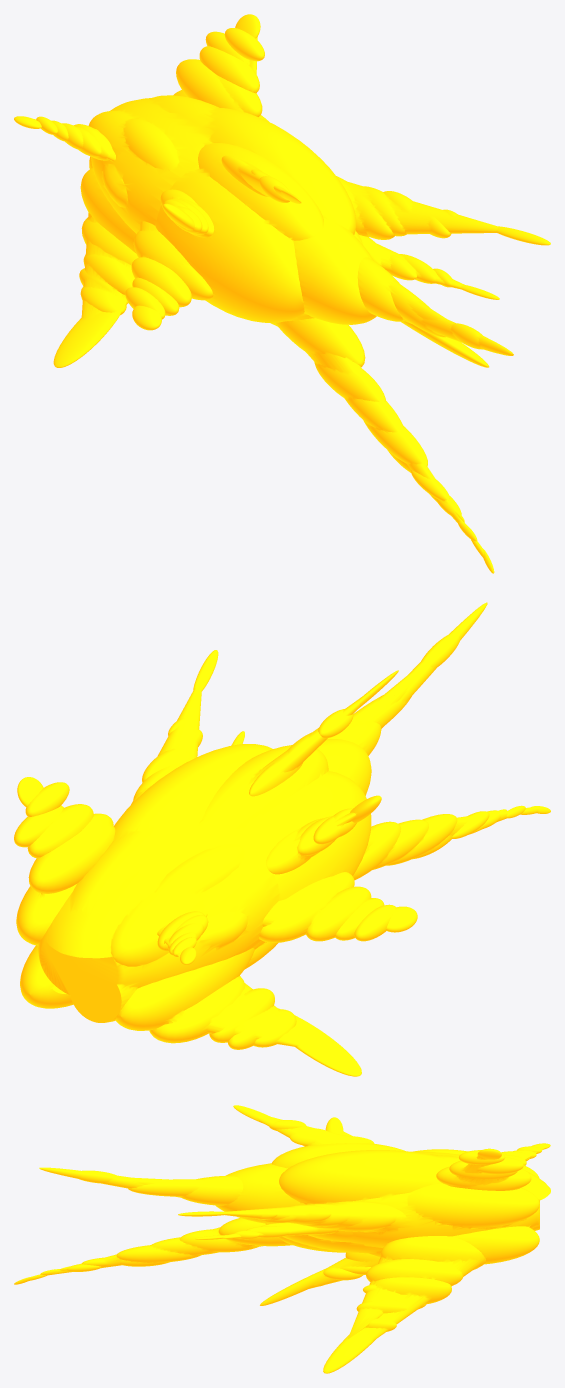
The model's file is MuzzleFlash.glb.
3 renders of one model, top to bottom at view 1: azimuth 30°, elevation 25°; view 2: azimuth 150°, elevation 25°; view 3: azimuth 270°, elevation 25°, orthographic. The views are drawn at different scales.
Visible parts, largest first — view 1: Mesh_0; view 2: Mesh_0; view 3: Mesh_0.
Part boxes in pixels (x1=…): Mesh_0: x1=14, y1=14, x2=550, y2=573; Mesh_0: x1=14, y1=602, x2=550, y2=1076; Mesh_0: x1=14, y1=1105, x2=550, y2=1373.
Size of the model in its own units: 1.26 by 0.9534 by 2.45.
